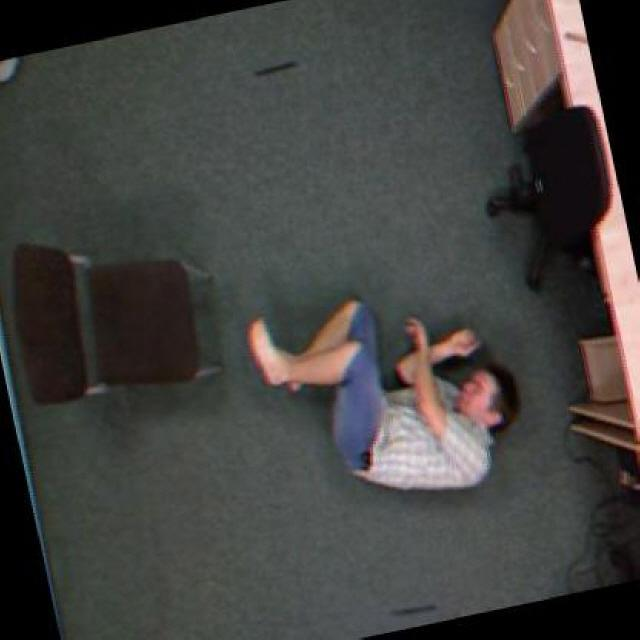Fall: (249, 298, 521, 490)
